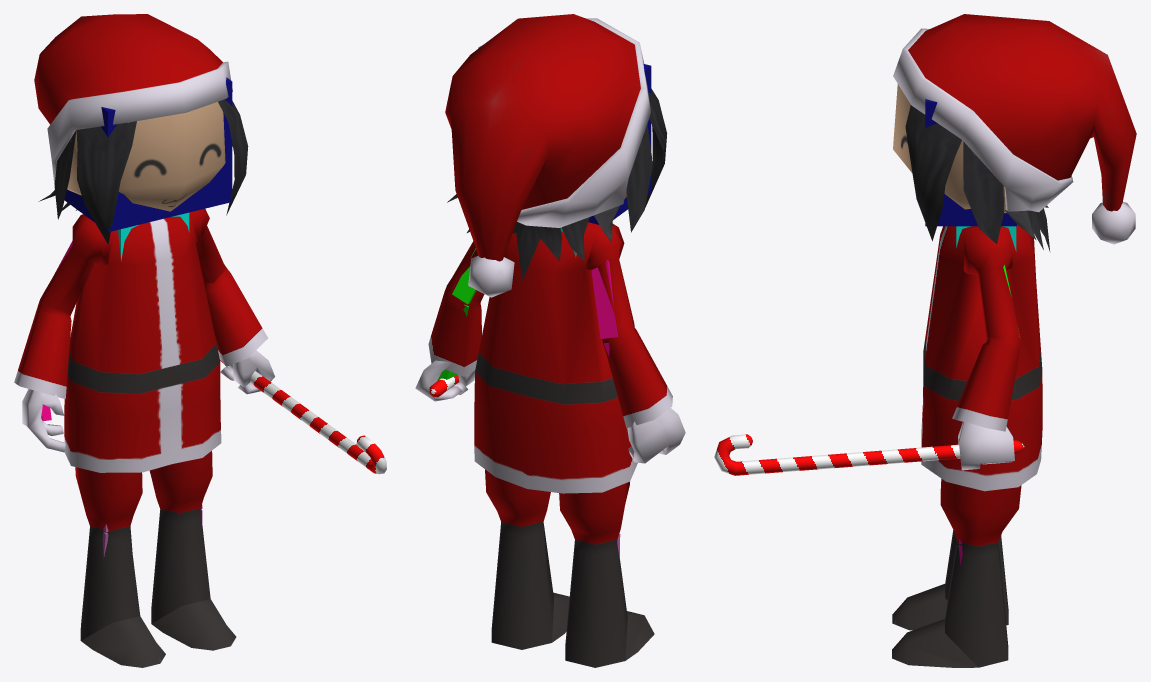
Rendered from xmasguy.obj.
3 views of the same model, side by side, from view 1: azimuth 30°, elevation 25°; view 2: azimuth 150°, elevation 25°; view 3: azimuth 270°, elevation 25° (orthographic). The views are drawn at different scales.
Parts seen in each view (by area): view 1: Box001, Sphere001, rosto, cabelo, Base_HumanHead, Line002, Box003, Box002; view 2: Box001, Sphere001, cabelo, Box003, Base_HumanRUpperarm, Box002, Base_HumanHead, Base_HumanLUpperarm; view 3: Box001, Sphere001, cabelo, Line002, Box002, rosto, Base_HumanHead.
Boxes of the visible parts, x1,y1,x2,y2 form: Box001: [14, 208, 268, 667]; Sphere001: [34, 14, 232, 184]; rosto: [67, 101, 225, 211]; cabelo: [38, 99, 248, 244]; Base_HumanHead: [64, 77, 232, 232]; Line002: [220, 360, 386, 474]; Box003: [22, 389, 65, 452]; Box002: [220, 350, 274, 394]; Box001: [428, 222, 672, 667]; Sphere001: [445, 14, 650, 297]; cabelo: [447, 88, 667, 280]; Box003: [627, 408, 685, 463]; Base_HumanRUpperarm: [591, 259, 618, 338]; Box002: [415, 360, 474, 401]; Base_HumanHead: [588, 64, 651, 224]; Base_HumanLUpperarm: [452, 248, 476, 304]; Box001: [892, 224, 1042, 667]; Sphere001: [893, 14, 1136, 244]; cabelo: [905, 105, 1050, 252]; Line002: [714, 434, 1024, 475]; Box002: [958, 421, 1014, 470]; rosto: [893, 84, 1006, 213]; Base_HumanHead: [925, 99, 1016, 226].
Size of the model in its own units: 81.81 by 194 by 121.
